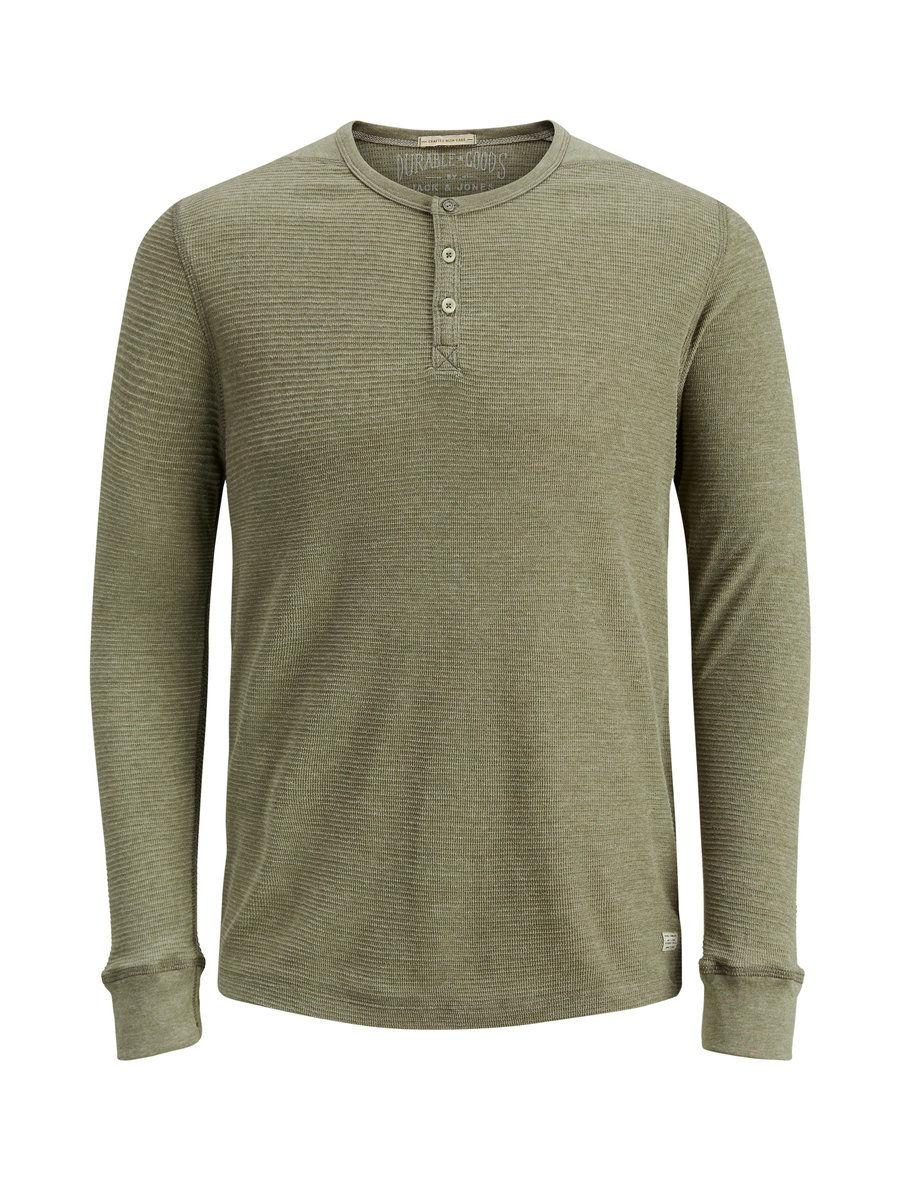teeshirt: (47, 109, 803, 1114)
